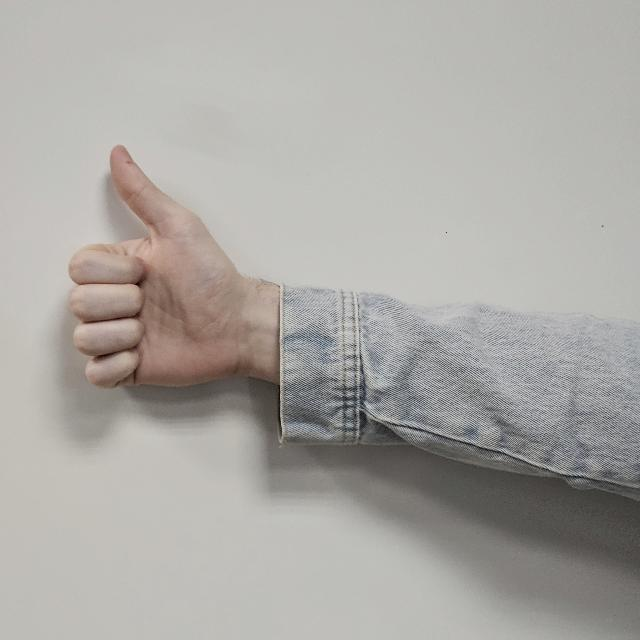Start: (69, 142, 257, 454)
